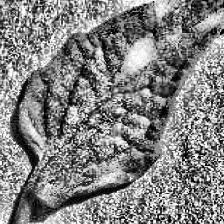leaf mold: (18, 0, 224, 209)
